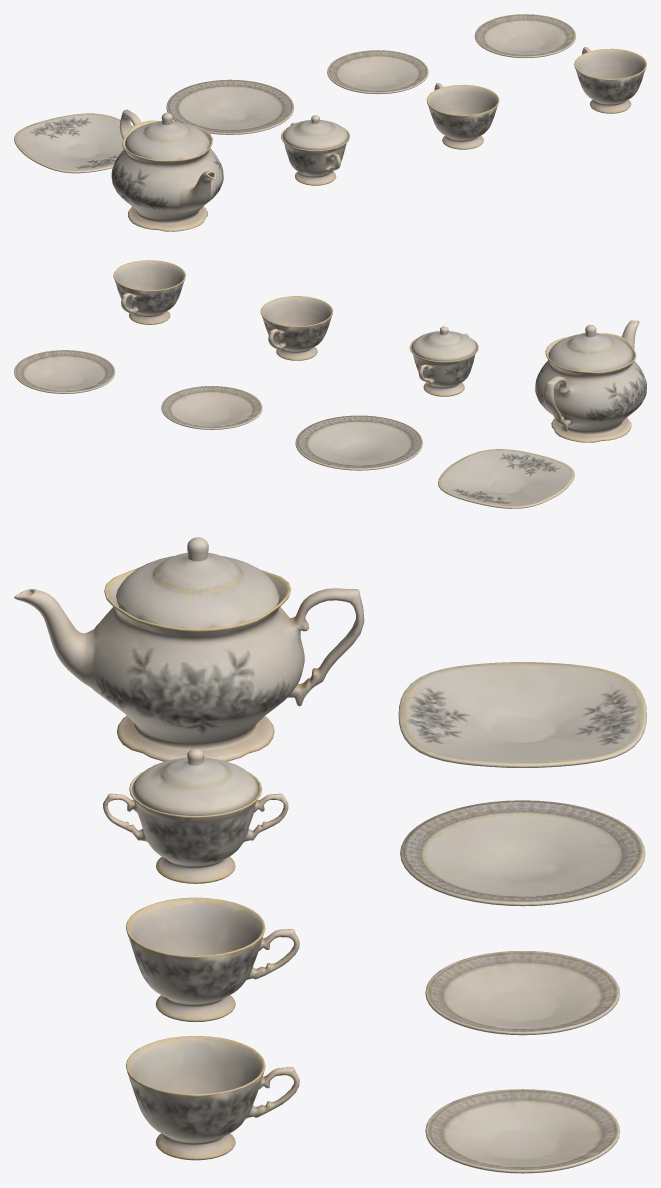
Rendered from tea_set_01.glb.
The picture shows the model from 3 angles, top to bottom: view 1: azimuth 30°, elevation 25°; view 2: azimuth 150°, elevation 25°; view 3: azimuth 270°, elevation 25°; orthographic projection. The views are drawn at different scales.
Visible parts, largest first — view 1: tea_set_01_plate_large_square_01; view 2: tea_set_01_plate_large_square_01; view 3: tea_set_01_plate_large_square_01.
Part boxes in pixels (x1,y1,x2,y2): tea_set_01_plate_large_square_01: [14, 14, 646, 231]; tea_set_01_plate_large_square_01: [14, 260, 646, 508]; tea_set_01_plate_large_square_01: [14, 537, 646, 1173].
Bounding box in the file's own units: 0.9185 × 0.165 × 0.4839.
1 material, 1 textured.
